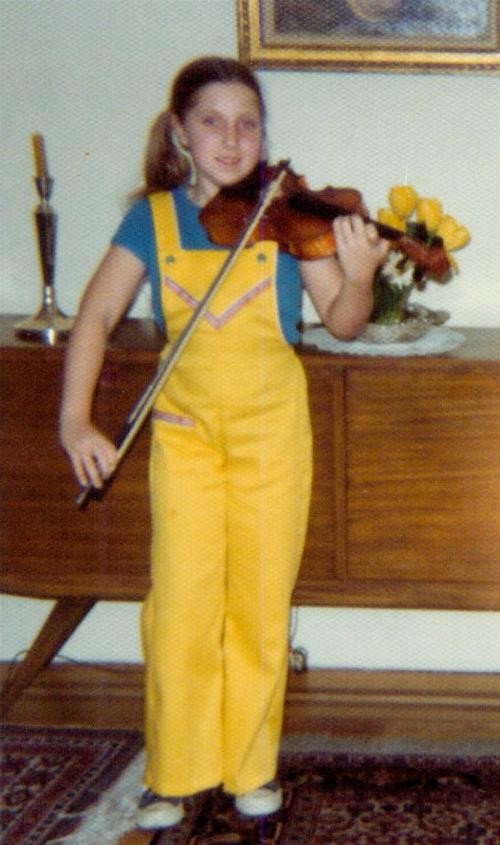person: (61, 56, 392, 827)
